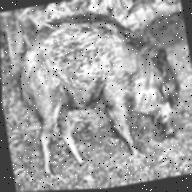boar: (10, 0, 192, 167)
